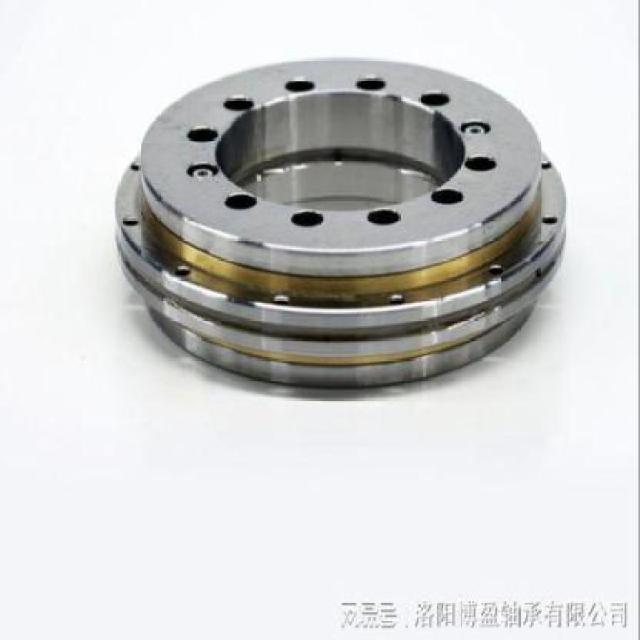Bearing: (111, 49, 566, 397)
